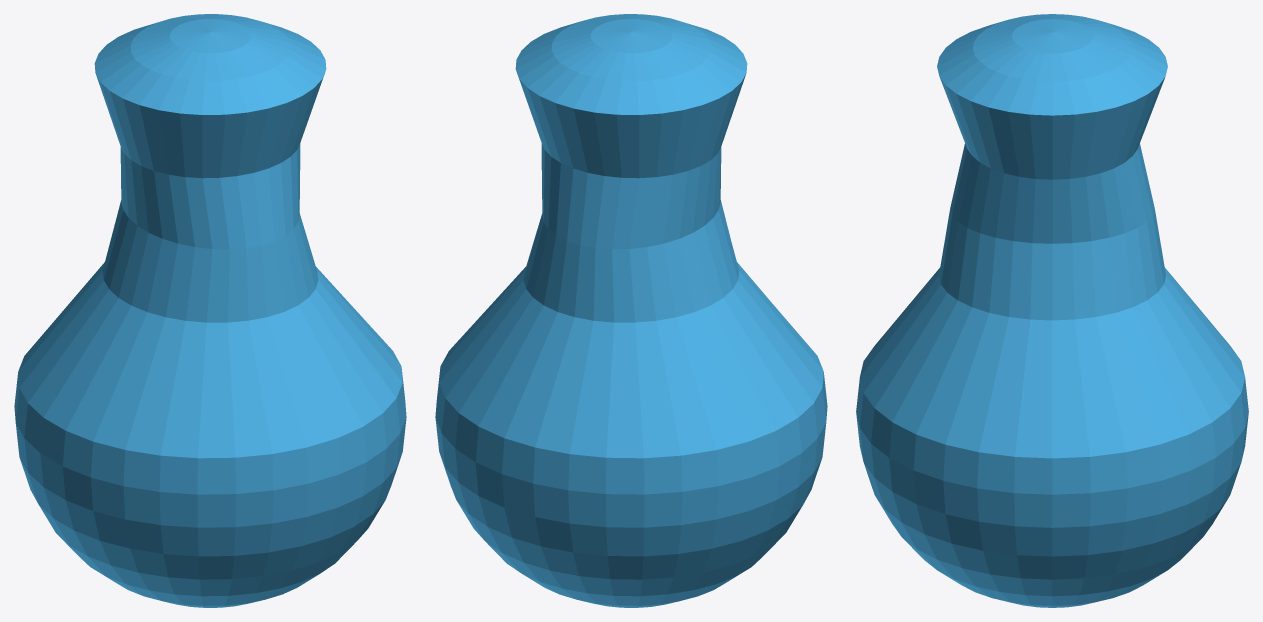
The model's file is Vas2.fbx.
3 views of the same model, side by side, from view 1: azimuth 30°, elevation 25°; view 2: azimuth 150°, elevation 25°; view 3: azimuth 270°, elevation 25° (orthographic).
Parts seen in each view (by area): view 1: Sphere; view 2: Sphere; view 3: Sphere.
Boxes of the visible parts, box(x1,y1,x2,y2) form: Sphere: box(14, 14, 406, 607); Sphere: box(435, 14, 827, 607); Sphere: box(856, 14, 1248, 607).
Size of the model in its own units: 200 by 313 by 200.
